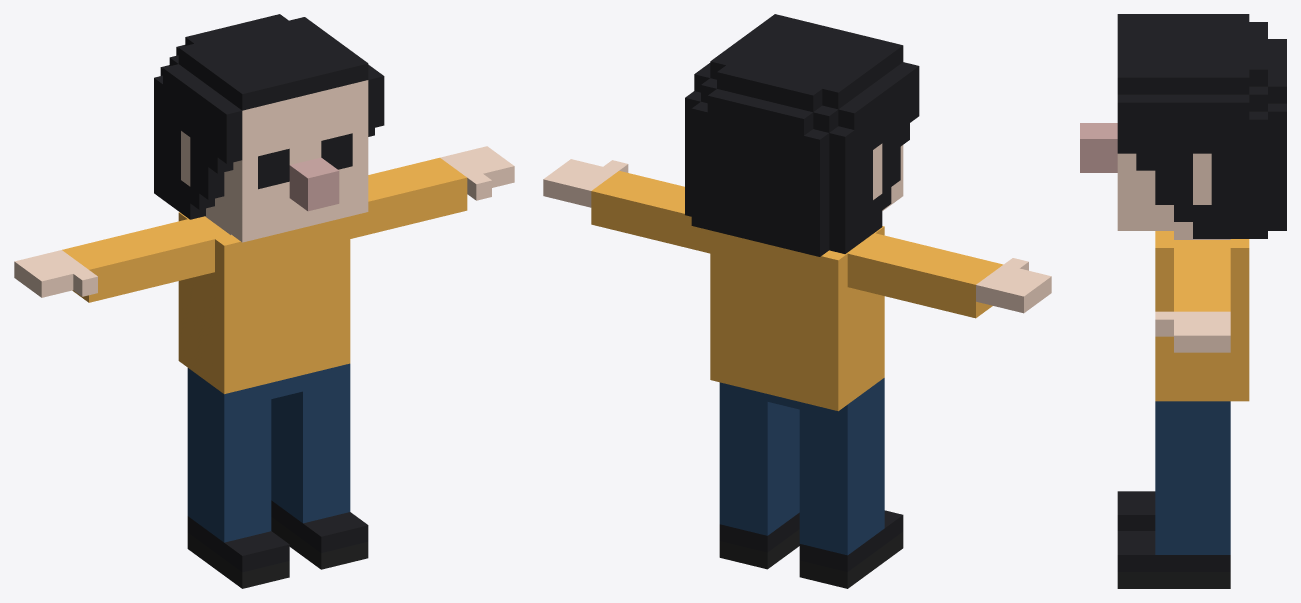
File: student.obj
3 views of the same model, side by side, from view 1: azimuth 30°, elevation 25°; view 2: azimuth 150°, elevation 25°; view 3: azimuth 270°, elevation 25° (orthographic). The views are drawn at different scales.
Size of the model in its own units: 3 by 3 by 1.1.
1 material, 1 textured.
